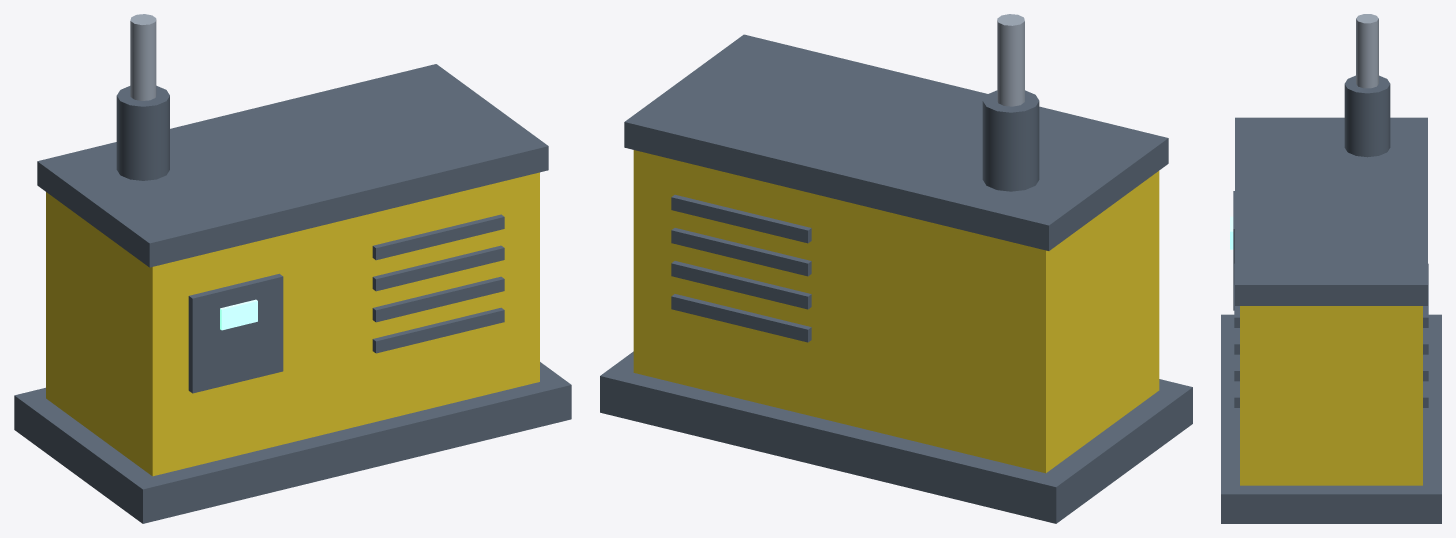
The model's file is generator_power_diesel.glb.
3 views of the same model, side by side, from view 1: azimuth 30°, elevation 25°; view 2: azimuth 150°, elevation 25°; view 3: azimuth 270°, elevation 25° (orthographic). The views are drawn at different scales.
Parts seen in each view (by area): view 1: generator_body_pivot, generator_power_diesel; view 2: generator_body_pivot, generator_power_diesel; view 3: generator_body_pivot, generator_power_diesel.
Part boxes in pixels (box(x1,y1,x2,y2)): generator_body_pivot: box(37, 14, 548, 476); generator_power_diesel: box(14, 362, 571, 523); generator_body_pivot: box(624, 14, 1168, 473); generator_power_diesel: box(600, 351, 1192, 523); generator_body_pivot: box(1230, 14, 1428, 485); generator_power_diesel: box(1221, 314, 1441, 523).
Size of the model in its own units: 2.6 by 2.44 by 1.35.
